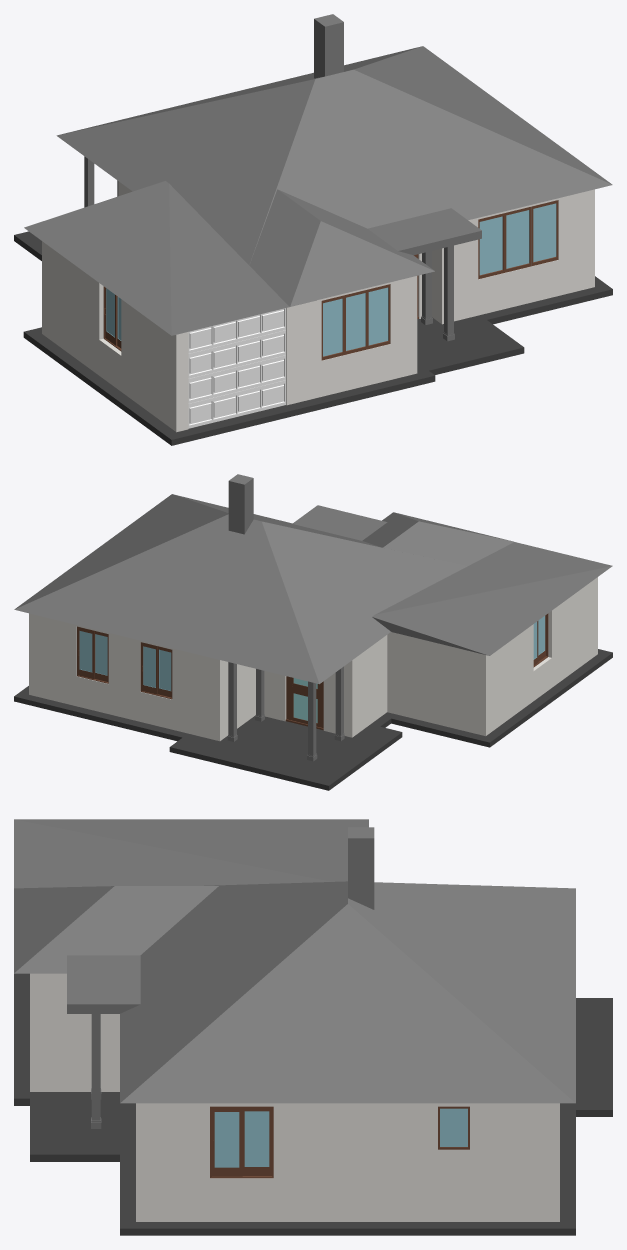
The model's file is task-16-x.obj.
The picture shows the model from 3 angles, top to bottom: view 1: azimuth 30°, elevation 25°; view 2: azimuth 150°, elevation 25°; view 3: azimuth 270°, elevation 25°; orthographic projection. The views are drawn at different scales.
Parts seen in each view (by area): view 1: roof_2, wall, roof_1, ground_base, roof_3, garage_door_frame_0, roof_0, chimney_0, window_glass_9, window_glass_10, window_glass_8, window_glass_7 (+5 smaller); view 2: roof_2, wall, ground_base, roof_1, roof_3, roof_0, chimney_0, window_glass_3, window_glass_2, door_frame_1, window_frame_2, window_frame_3 (+6 smaller); view 3: roof_2, wall, ground_base, roof_1, roof_3, roof_0, window_glass_0, chimney_0, window_frame_0, pillar_6, window_glass_1.
Boxes of the visible parts, <box> form: roof_2: <box>56,46,612,264</box>; wall: <box>42,181,594,432</box>; roof_1: <box>24,181,316,335</box>; ground_base: <box>14,231,612,445</box>; roof_3: <box>249,189,434,306</box>; garage_door_frame_0: <box>188,308,285,428</box>; roof_0: <box>368,208,481,255</box>; chimney_0: <box>314,14,343,78</box>; window_glass_9: <box>506,210,529,268</box>; window_glass_10: <box>533,203,556,262</box>; window_glass_8: <box>479,216,502,275</box>; window_glass_7: <box>368,287,388,345</box>; roof_2: <box>14,494,466,684</box>; wall: <box>29,577,597,741</box>; ground_base: <box>14,649,612,790</box>; roof_1: <box>372,542,612,655</box>; roof_3: <box>362,512,513,566</box>; roof_0: <box>292,505,387,540</box>; chimney_0: <box>228,474,253,534</box>; window_glass_3: <box>79,631,107,675</box>; window_glass_2: <box>143,646,171,690</box>; door_frame_1: <box>285,676,323,730</box>; window_frame_2: <box>140,642,172,699</box>; window_frame_3: <box>77,626,108,683</box>; roof_2: <box>120,881,575,1103</box>; wall: <box>30,973,559,1221</box>; ground_base: <box>14,973,612,1235</box>; roof_1: <box>14,819,368,888</box>; roof_3: <box>14,886,218,973</box>; roof_0: <box>67,955,140,1013</box>; window_glass_0: <box>214,1111,269,1167</box>; chimney_0: <box>348,827,374,909</box>; window_frame_0: <box>210,1106,273,1178</box>; pillar_6: <box>91,1014,101,1128</box>; window_glass_1: <box>440,1108,467,1146</box>.
Size of the model in its own units: 12.7 by 6.15 by 11.3.
